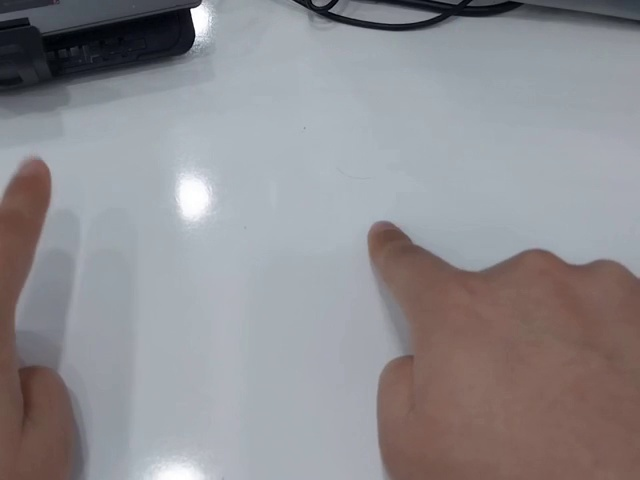fingers: (4, 155, 53, 217), (366, 220, 412, 260)
